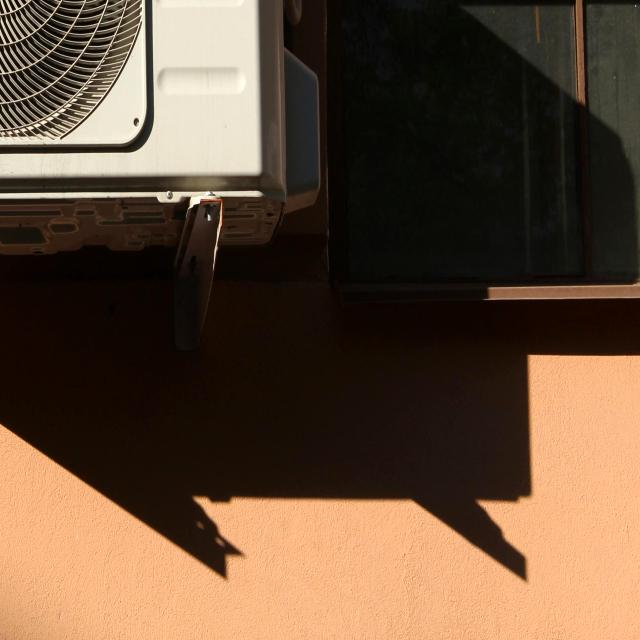SPLIT-SYSTEM: (0, 0, 335, 305)
